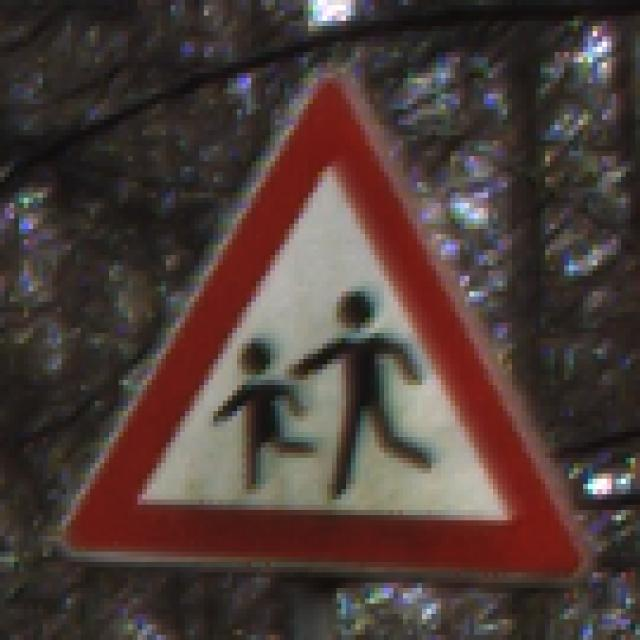school ahead: (56, 55, 590, 596)
